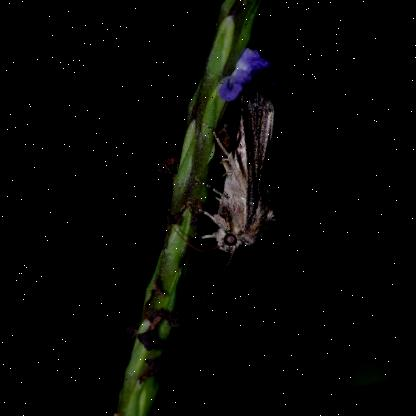Fall Armyworm Moth: (138, 77, 322, 323)
